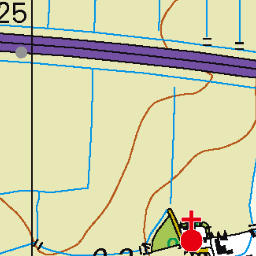church: (174, 209, 205, 253)
